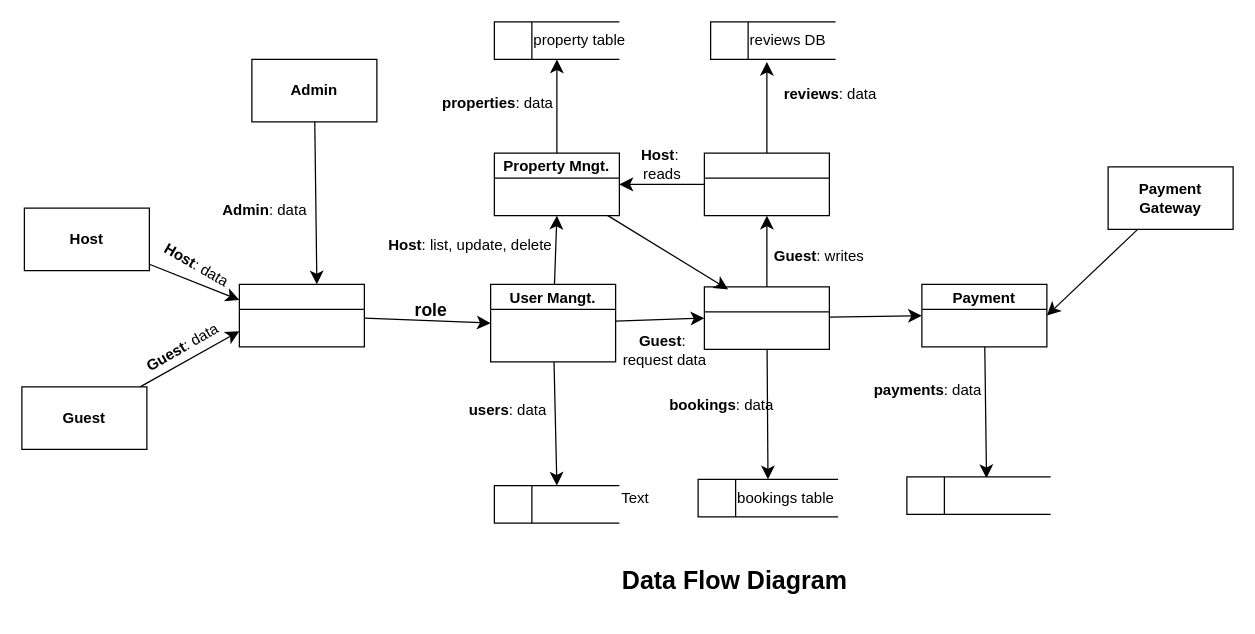
This 1255x634 diagram has some shape labels left out. Here are the shapes that lost their labels. From the top down, the centre of each, then its label:
point 766,184: Reviews
point 301,315: Authentication
point 766,317: Bookings
point 556,503: users table
point 978,495: payments table
